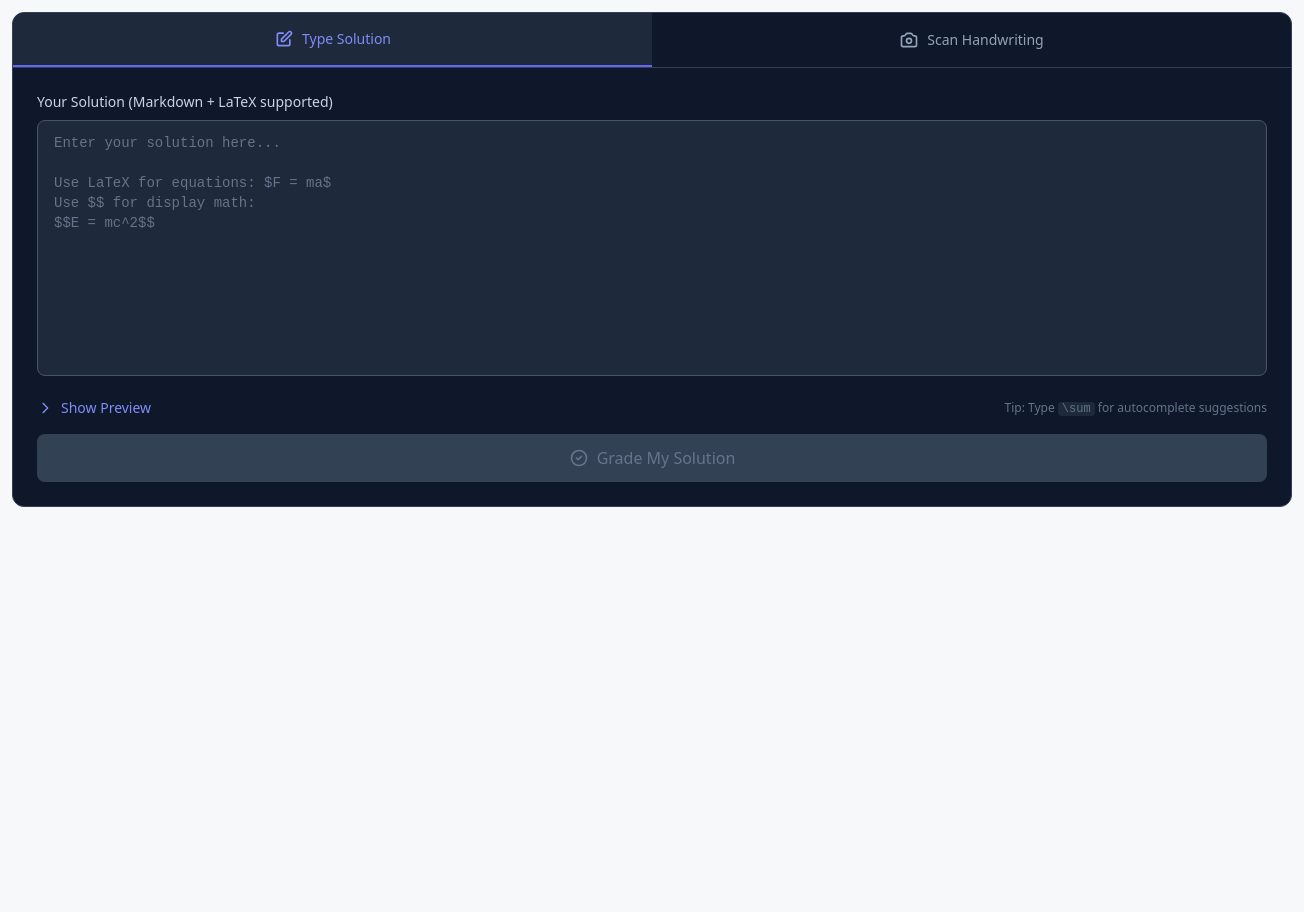
Test: SubmissionCanvas - ConstraintFeedback Integration › next action button icons › shows REVIEW_CONCEPT icon for conceptual gaps
Replace the text in the text box with placeholder "Enter your solution here" with "Wrong concept solution" at (652, 248), box [37, 120, 1267, 376]
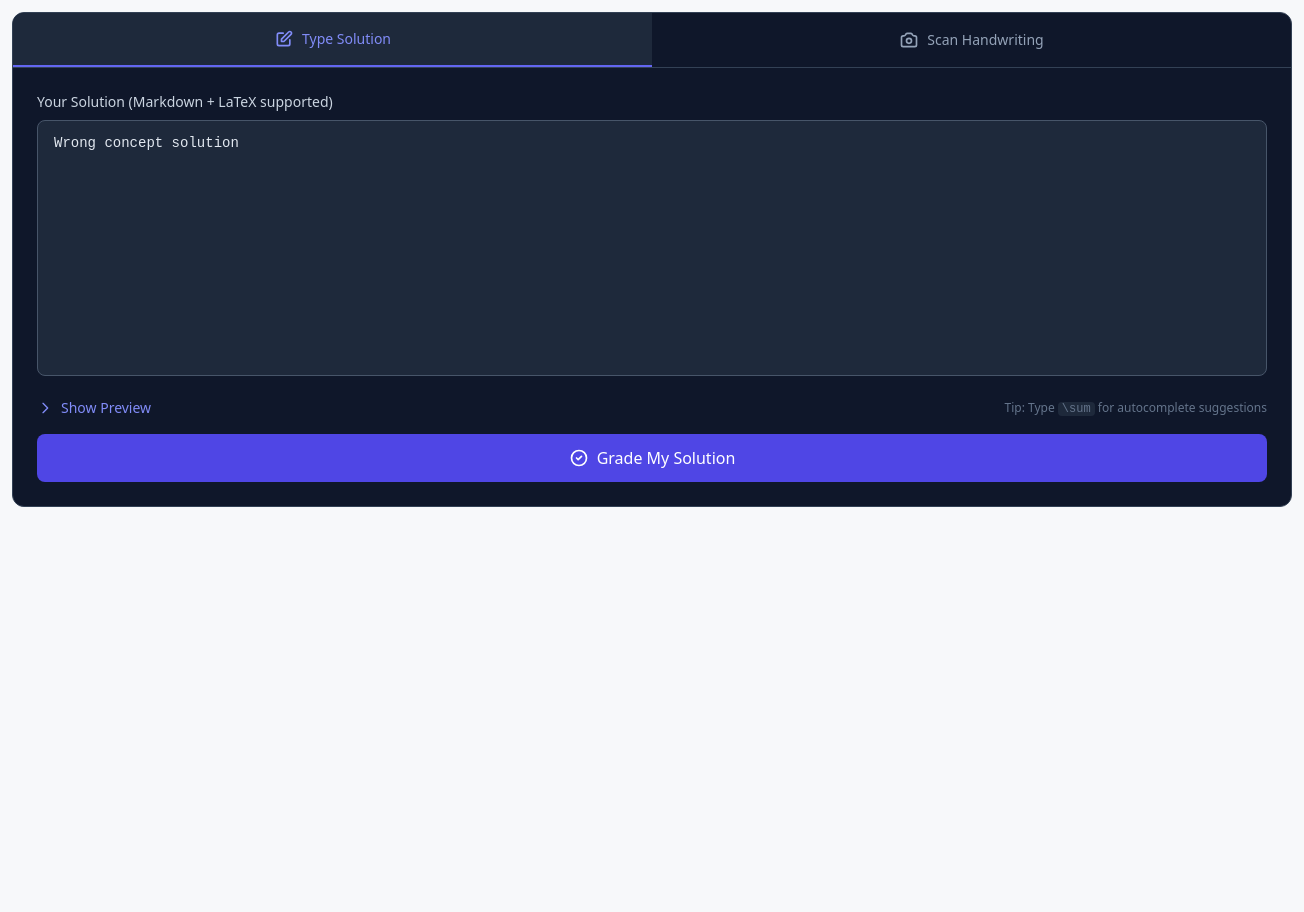
Click the button "Grade My Solution".
click(652, 458)  # box [37, 434, 1267, 482]
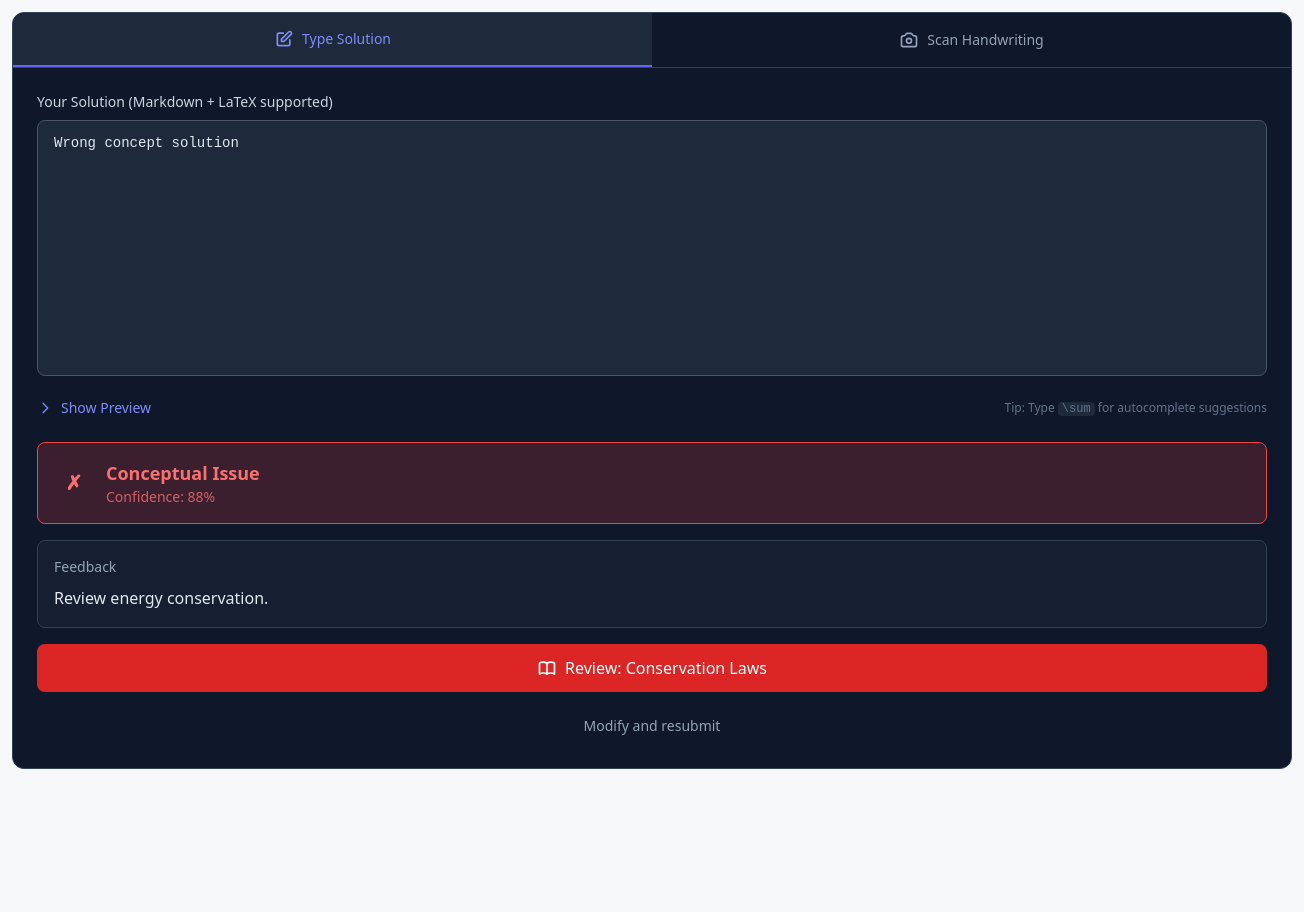
Expected: the 4th icon is shown, [537, 658, 557, 678]
Expected: the button "Review: Conservation Laws" is shown, [37, 644, 1267, 692]
